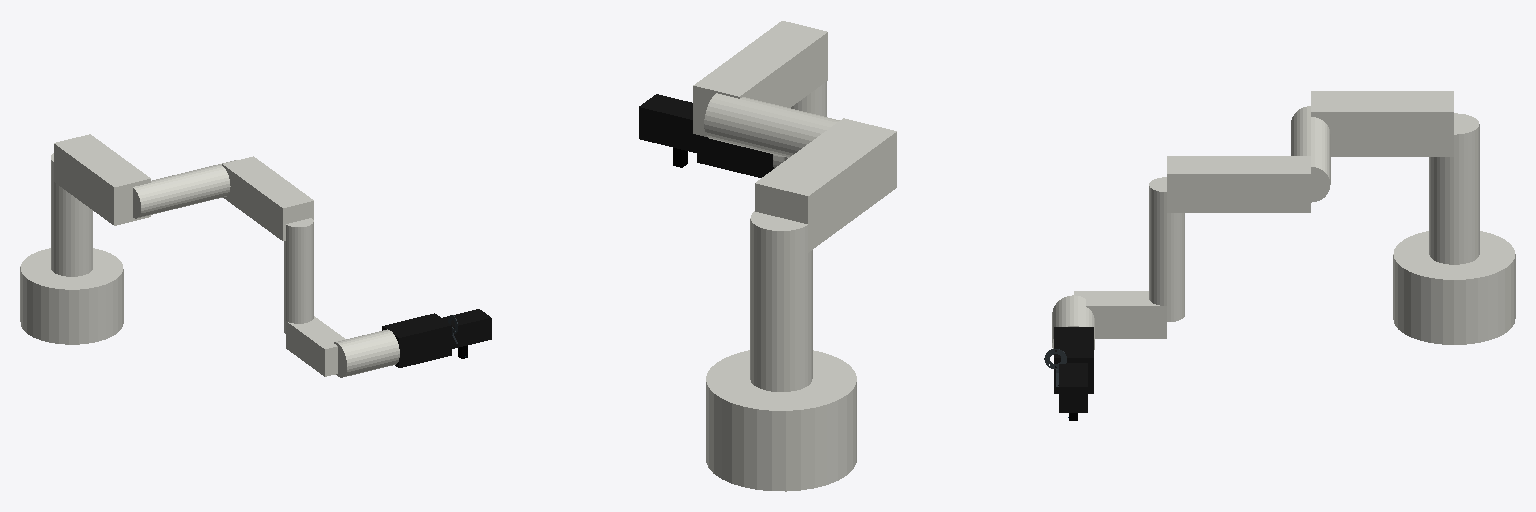
URDF robot description (fr3_d435i_wrist_camera):
<?xml version="1.0"?>
<robot name="fr3_d435i_wrist_camera">
  <!-- Standalone approximation of FR3 kinematics with the supplied wrist mount.
       Replace the primitive arm visuals with official franka_description meshes when available. -->
  <material name="franka_white"><color rgba="0.85 0.85 0.82 1"/></material>
  <material name="franka_dark"><color rgba="0.12 0.12 0.12 1"/></material>
  <material name="mount_gray"><color rgba="0.25 0.28 0.30 1"/></material>
  <material name="camera_black"><color rgba="0.03 0.03 0.03 1"/></material>
  <material name="camera_glass"><color rgba="0.05 0.20 0.30 1"/></material>

  <link name="world"/>
  <link name="base_link">
    <visual><origin xyz="0 0 0.10"/><geometry><cylinder radius="0.17" length="0.20"/></geometry><material name="franka_white"/></visual>
    <collision><origin xyz="0 0 0.10"/><geometry><cylinder radius="0.17" length="0.20"/></geometry></collision>
    <inertial><origin xyz="0 0 0.10"/><mass value="10"/><inertia ixx="0.08" ixy="0" ixz="0" iyy="0.08" iyz="0" izz="0.12"/></inertial>
  </link>
  <joint name="world_to_base" type="fixed"><parent link="world"/><child link="base_link"/><origin xyz="0 0 0"/></joint>

  <link name="panda_link1"><visual><origin xyz="0 0 0.20"/><geometry><cylinder radius="0.07" length="0.40"/></geometry><material name="franka_white"/></visual><collision><origin xyz="0 0 0.20"/><geometry><cylinder radius="0.07" length="0.40"/></geometry></collision><inertial><origin xyz="0 0 0.20"/><mass value="3.0"/><inertia ixx="0.11" ixy="0" ixz="0" iyy="0.11" iyz="0" izz="0.02"/></inertial></link>
  <joint name="panda_joint1" type="revolute"><parent link="base_link"/><child link="panda_link1"/><origin xyz="0 0 0.20" rpy="0 0 0"/><axis xyz="0 0 1"/><limit lower="-2.8973" upper="2.8973" effort="87" velocity="2.175"/></joint>

  <link name="panda_link2"><visual><origin xyz="0 0 -0.20"/><geometry><box size="0.14 0.14 0.40"/></geometry><material name="franka_white"/></visual><collision><origin xyz="0 0 -0.20"/><geometry><box size="0.14 0.14 0.40"/></geometry></collision><inertial><origin xyz="0 0 -0.20"/><mass value="2.5"/><inertia ixx="0.09" ixy="0" ixz="0" iyy="0.09" iyz="0" izz="0.02"/></inertial></link>
  <joint name="panda_joint2" type="revolute"><parent link="panda_link1"/><child link="panda_link2"/><origin xyz="0 0 0.40" rpy="-1.57079632679 0 0"/><axis xyz="0 0 1"/><limit lower="-1.7628" upper="1.7628" effort="87" velocity="2.175"/></joint>

  <link name="panda_link3"><visual><origin xyz="0.20 0 0" rpy="0 1.57079632679 0"/><geometry><cylinder radius="0.055" length="0.40"/></geometry><material name="franka_white"/></visual><collision><origin xyz="0.20 0 0" rpy="0 1.57079632679 0"/><geometry><cylinder radius="0.055" length="0.40"/></geometry></collision><inertial><origin xyz="0.20 0 0"/><mass value="2.7"/><inertia ixx="0.03" ixy="0" ixz="0" iyy="0.10" iyz="0" izz="0.10"/></inertial></link>
  <joint name="panda_joint3" type="revolute"><parent link="panda_link2"/><child link="panda_link3"/><origin xyz="0 0 -0.40" rpy="1.57079632679 0 0"/><axis xyz="0 0 1"/><limit lower="-2.8973" upper="2.8973" effort="87" velocity="2.175"/></joint>

  <link name="panda_link4"><visual><origin xyz="0 0 0.20"/><geometry><box size="0.12 0.12 0.40"/></geometry><material name="franka_white"/></visual><collision><origin xyz="0 0 0.20"/><geometry><box size="0.12 0.12 0.40"/></geometry></collision><inertial><origin xyz="0 0 0.20"/><mass value="2.4"/><inertia ixx="0.09" ixy="0" ixz="0" iyy="0.09" iyz="0" izz="0.02"/></inertial></link>
  <joint name="panda_joint4" type="revolute"><parent link="panda_link3"/><child link="panda_link4"/><origin xyz="0.40 0 0" rpy="1.57079632679 0 0"/><axis xyz="0 0 1"/><limit lower="-3.0718" upper="-0.0698" effort="87" velocity="2.175"/></joint>

  <link name="panda_link5"><visual><origin xyz="0.20 0 0" rpy="0 1.57079632679 0"/><geometry><cylinder radius="0.05" length="0.40"/></geometry><material name="franka_white"/></visual><collision><origin xyz="0.20 0 0" rpy="0 1.57079632679 0"/><geometry><cylinder radius="0.05" length="0.40"/></geometry></collision><inertial><origin xyz="0.20 0 0"/><mass value="2.2"/><inertia ixx="0.025" ixy="0" ixz="0" iyy="0.08" iyz="0" izz="0.08"/></inertial></link>
  <joint name="panda_joint5" type="revolute"><parent link="panda_link4"/><child link="panda_link5"/><origin xyz="0 0 0.40" rpy="-1.57079632679 0 0"/><axis xyz="0 0 1"/><limit lower="-2.8973" upper="2.8973" effort="12" velocity="2.61"/></joint>

  <link name="panda_link6"><visual><origin xyz="0 0 0.13"/><geometry><box size="0.10 0.10 0.26"/></geometry><material name="franka_white"/></visual><collision><origin xyz="0 0 0.13"/><geometry><box size="0.10 0.10 0.26"/></geometry></collision><inertial><origin xyz="0 0 0.13"/><mass value="1.8"/><inertia ixx="0.03" ixy="0" ixz="0" iyy="0.03" iyz="0" izz="0.01"/></inertial></link>
  <joint name="panda_joint6" type="revolute"><parent link="panda_link5"/><child link="panda_link6"/><origin xyz="0.40 0 0" rpy="1.57079632679 0 0"/><axis xyz="0 0 1"/><limit lower="-0.0175" upper="3.7525" effort="12" velocity="2.61"/></joint>

  <link name="panda_link7"><visual><origin xyz="0 0 0.10"/><geometry><cylinder radius="0.06" length="0.20"/></geometry><material name="franka_white"/></visual><collision><origin xyz="0 0 0.10"/><geometry><cylinder radius="0.06" length="0.20"/></geometry></collision><inertial><origin xyz="0 0 0.10"/><mass value="1.2"/><inertia ixx="0.01" ixy="0" ixz="0" iyy="0.01" iyz="0" izz="0.01"/></inertial></link>
  <joint name="panda_joint7" type="revolute"><parent link="panda_link6"/><child link="panda_link7"/><origin xyz="0 0 0.26" rpy="-1.57079632679 0 0"/><axis xyz="0 0 1"/><limit lower="-2.8973" upper="2.8973" effort="12" velocity="2.61"/></joint>
  <link name="panda_hand"><visual><origin xyz="0 0 0.10"/><geometry><box size="0.11 0.11 0.20"/></geometry><material name="franka_dark"/></visual><collision><origin xyz="0 0 0.10"/><geometry><box size="0.11 0.11 0.20"/></geometry></collision><inertial><origin xyz="0 0 0.10"/><mass value="0.73"/><inertia ixx="0.003" ixy="0" ixz="0" iyy="0.003" iyz="0" izz="0.003"/></inertial></link>
  <joint name="panda_hand_joint" type="fixed"><parent link="panda_link7"/><child link="panda_hand"/><origin xyz="0 0 0.20"/></joint>
  <link name="panda_gripper"><visual><origin xyz="0 0 0.08"/><geometry><box size="0.08 0.08 0.16"/></geometry><material name="franka_dark"/></visual><collision><origin xyz="0 0 0.08"/><geometry><box size="0.08 0.08 0.16"/></geometry></collision><inertial><origin xyz="0 0 0.08"/><mass value="0.3"/><inertia ixx="0.001" ixy="0" ixz="0" iyy="0.001" iyz="0" izz="0.001"/></inertial></link>
  <joint name="panda_gripper_joint" type="fixed"><parent link="panda_hand"/><child link="panda_gripper"/><origin xyz="0 0 0.20"/></joint>

  <!-- Supplied mount STL is in millimetres; the 0.001 scale converts it to metres. -->
  <link name="fr3_d435i_mount"><visual><origin xyz="-0.055 -0.050 -0.011"/><geometry><mesh filename="../models/FR3_D435i_mount.stl" scale="0.001 0.001 0.001"/></geometry><material name="mount_gray"/></visual><collision><origin xyz="-0.055 -0.050 -0.011"/><geometry><mesh filename="../models/FR3_D435i_mount.stl" scale="0.001 0.001 0.001"/></geometry></collision><inertial><mass value="0.20"/><inertia ixx="0.0004" ixy="0" ixz="0" iyy="0.0004" iyz="0" izz="0.0004"/></inertial></link>
  <joint name="fr3_mount_joint" type="fixed"><parent link="panda_gripper"/><child link="fr3_d435i_mount"/><origin xyz="0 0 0.02" rpy="0 0 0"/></joint>

  <!-- D435i envelope: 90 x 25 x 25 mm. Camera optical axis points +X. -->
  <link name="d435i_link"><visual><origin xyz="0 0 0"/><geometry><box size="0.090 0.025 0.025"/></geometry><material name="camera_black"/></visual><collision><origin xyz="0 0 0"/><geometry><box size="0.090 0.025 0.025"/></geometry></collision><visual><origin xyz="0.038 -0.013 0" rpy="0 1.57079632679 0"/><geometry><cylinder radius="0.004" length="0.001"/></geometry><material name="camera_glass"/></visual><inertial><mass value="0.09"/><inertia ixx="0.00002" ixy="0" ixz="0" iyy="0.00007" iyz="0" izz="0.00007"/></inertial></link>
  <joint name="d435i_mount_joint" type="fixed"><parent link="fr3_d435i_mount"/><child link="d435i_link"/><origin xyz="0.055 0 0.055" rpy="0 0 0"/></joint>
  <link name="d435i_color_frame"/><joint name="d435i_color_joint" type="fixed"><parent link="d435i_link"/><child link="d435i_color_frame"/><origin xyz="0.045 0 0" rpy="0 0 0"/></joint>
  <link name="d435i_color_optical_frame"/><joint name="d435i_color_optical_joint" type="fixed"><parent link="d435i_color_frame"/><child link="d435i_color_optical_frame"/><origin xyz="0 0 0" rpy="-1.57079632679 0 -1.57079632679"/></joint>
  <link name="d435i_depth_frame"/><joint name="d435i_depth_joint" type="fixed"><parent link="d435i_link"/><child link="d435i_depth_frame"/><origin xyz="0.045 0.006 0"/></joint>
  <link name="d435i_depth_optical_frame"/><joint name="d435i_depth_optical_joint" type="fixed"><parent link="d435i_depth_frame"/><child link="d435i_depth_optical_frame"/><origin xyz="0 0 0" rpy="-1.57079632679 0 -1.57079632679"/></joint>
  <link name="d435i_imu_frame"/><joint name="d435i_imu_joint" type="fixed"><parent link="d435i_link"/><child link="d435i_imu_frame"/><origin xyz="-0.015 0 0"/></joint>
</robot>

--- Render facts (derived) ---
The picture shows the robot from 3 angles, left to right: view 1: azimuth 30°, elevation 25°; view 2: azimuth 150°, elevation 25°; view 3: azimuth 270°, elevation 25°; orthographic projection.
Robot: fr3_d435i_wrist_camera — 18 links, 17 joints (7 revolute, 10 fixed); root link world; default pose: all joints at 0 but 1 set to mid-range because 0 is outside their limits (panda_joint4 = -1.57).
Links seen in each view (by area): view 1: base_link, panda_link2, panda_link4, panda_link1, panda_link3, panda_link5, panda_hand, panda_link6, panda_link7, panda_gripper; view 2: base_link, panda_link2, panda_link1, panda_link4, panda_link3, panda_gripper, panda_hand, panda_link5; view 3: base_link, panda_link2, panda_link4, panda_link1, panda_link5, panda_link6, panda_link3, panda_hand, panda_gripper, panda_link7.
Link boxes in pixels (x1=…): base_link: x1=20, y1=248, x2=123, y2=344; panda_link2: x1=54, y1=134, x2=150, y2=225; panda_link4: x1=222, y1=156, x2=313, y2=240; panda_link1: x1=51, y1=153, x2=92, y2=276; panda_link3: x1=133, y1=160, x2=235, y2=218; panda_link5: x1=284, y1=218, x2=313, y2=333; panda_hand: x1=382, y1=313, x2=451, y2=367; panda_link6: x1=286, y1=316, x2=345, y2=376; panda_link7: x1=334, y1=329, x2=399, y2=377; panda_gripper: x1=442, y1=309, x2=491, y2=348; base_link: x1=706, y1=350, x2=856, y2=491; panda_link2: x1=755, y1=118, x2=896, y2=252; panda_link1: x1=750, y1=211, x2=812, y2=391; panda_link4: x1=693, y1=21, x2=827, y2=136; panda_link3: x1=704, y1=93, x2=839, y2=157; panda_gripper: x1=639, y1=94, x2=696, y2=152; panda_hand: x1=697, y1=135, x2=773, y2=177; panda_link5: x1=783, y1=81, x2=826, y2=161; base_link: x1=1393, y1=231, x2=1515, y2=344; panda_link2: x1=1311, y1=91, x2=1453, y2=156; panda_link4: x1=1167, y1=156, x2=1310, y2=212; panda_link1: x1=1429, y1=113, x2=1479, y2=264; panda_link5: x1=1149, y1=177, x2=1184, y2=321; panda_link6: x1=1074, y1=291, x2=1166, y2=338; panda_link3: x1=1291, y1=106, x2=1330, y2=202; panda_hand: x1=1054, y1=327, x2=1093, y2=393; panda_gripper: x1=1059, y1=363, x2=1087, y2=412; panda_link7: x1=1052, y1=295, x2=1094, y2=349.
Size in the robot's own frame: 1.13 by 1.31 by 0.67 metres.
Meshes: 1 distinct files referenced, 1 mesh visuals loaded (1 ASCII STL).
